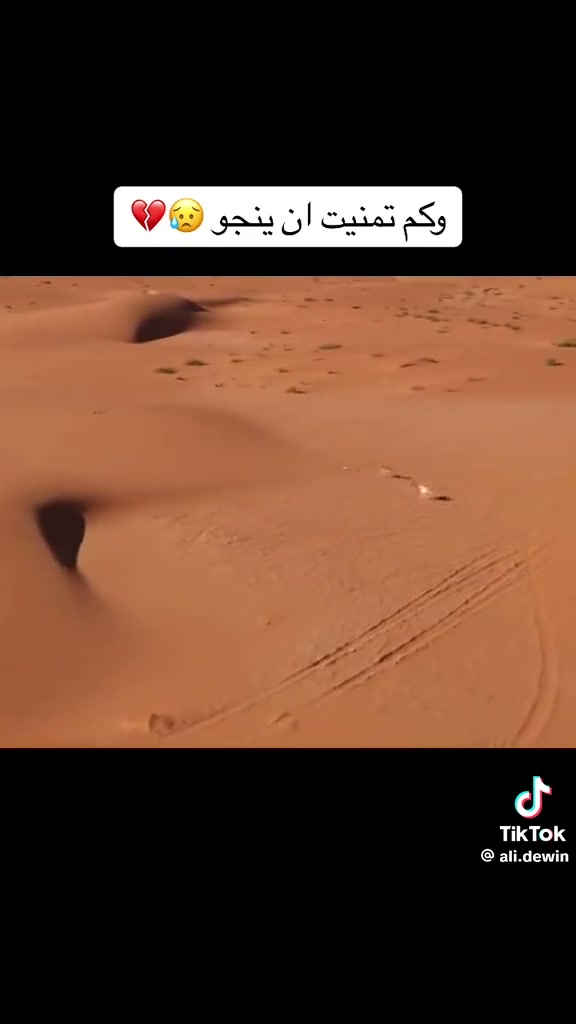vehicle_track: (167, 549, 526, 733)
